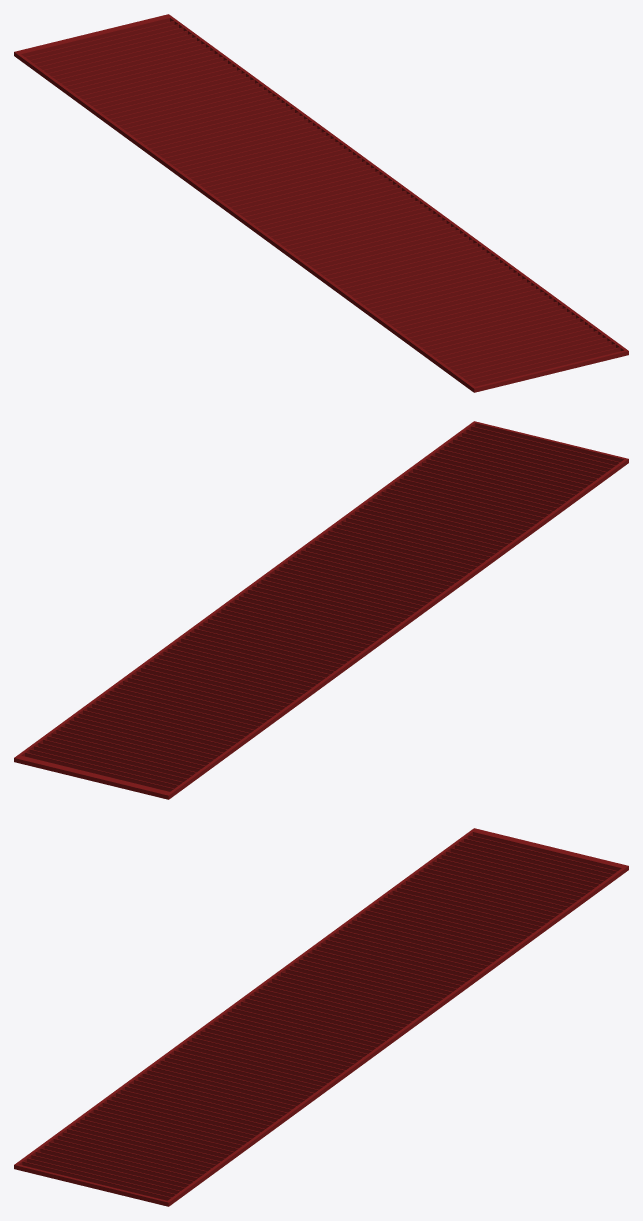
File: SM_Shed_v05.FBX
3 views of the same model, one above another, from view 1: azimuth 30°, elevation 25°; view 2: azimuth 150°, elevation 25°; view 3: azimuth 330°, elevation 25° (orthographic).
Parts seen in each view (by area): view 1: SM_Shed_v05; view 2: SM_Shed_v05; view 3: SM_Shed_v05.
Boxes of the visible parts, box(x1,y1,x2,y2) form: SM_Shed_v05: box(14, 14, 628, 392); SM_Shed_v05: box(14, 421, 628, 799); SM_Shed_v05: box(14, 828, 628, 1206).
Bounding box in the file's own units: 16.21 × 0.4165 × 83.46.
